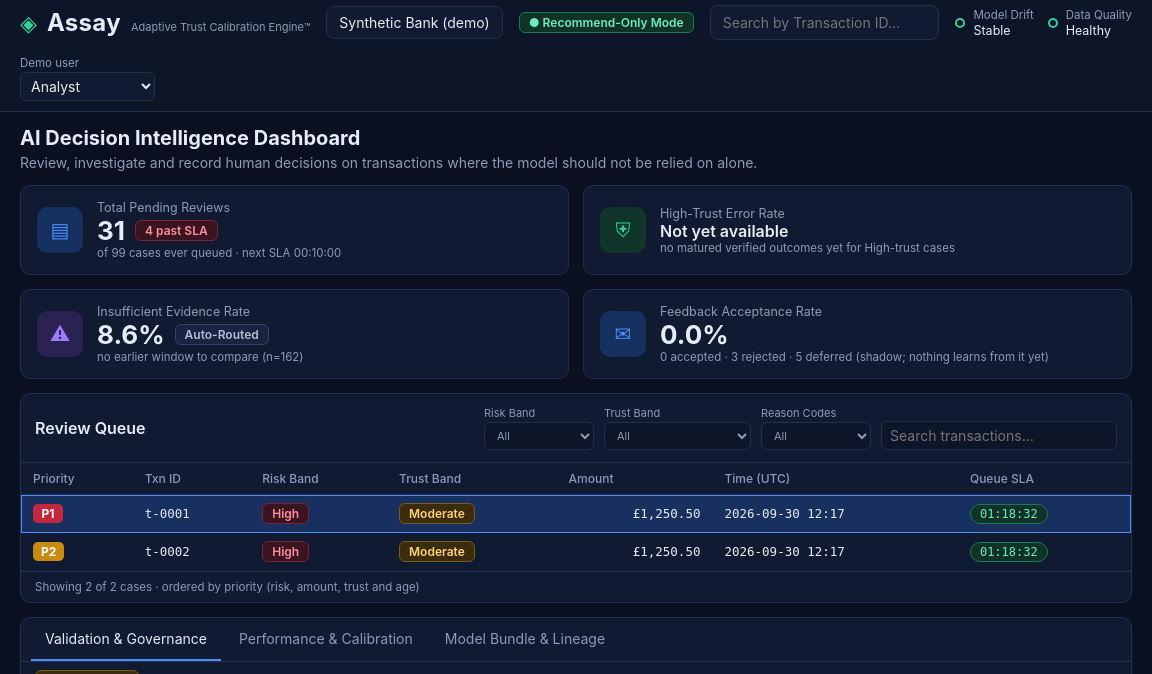
Test: App › reloads as a different demo user and sends that user with every request
Select "Fraud Manager" in the dropdown labelled "Demo user": (88, 86) [20,72,155,101]
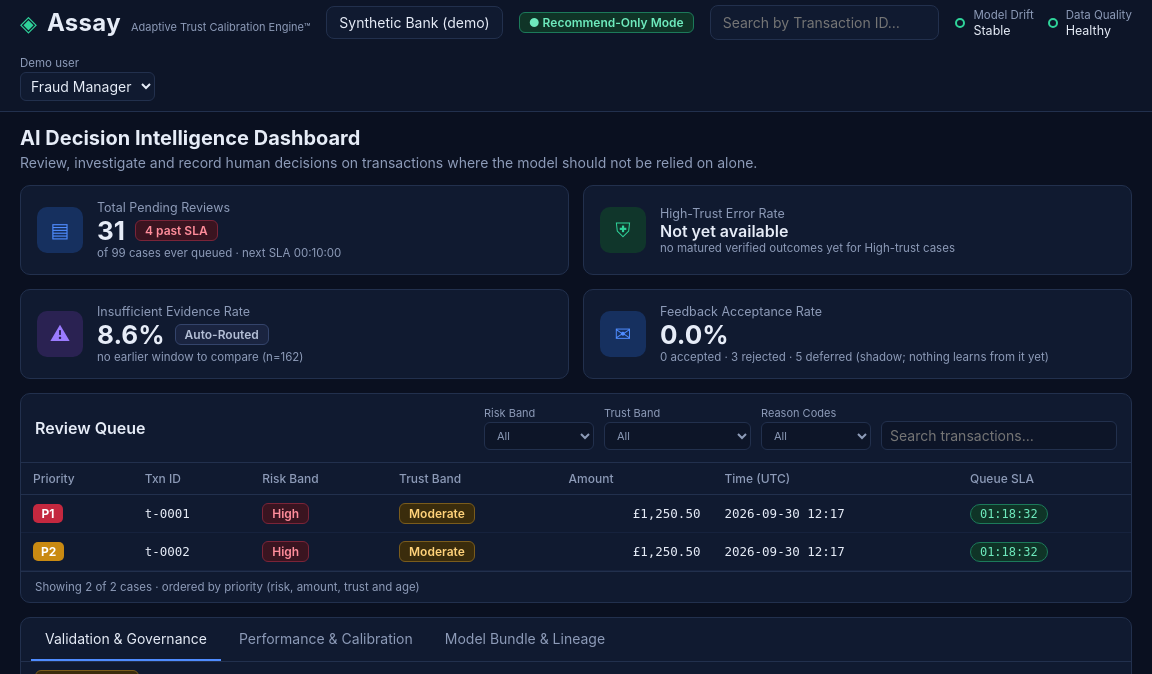
Expected: the element with test id "kpis" shows "Total Pending Reviews", [97,200,230,215]
Click the tab "Model Bundle & Lineage": (525, 640) [431,618,619,661]
(page scrolled)
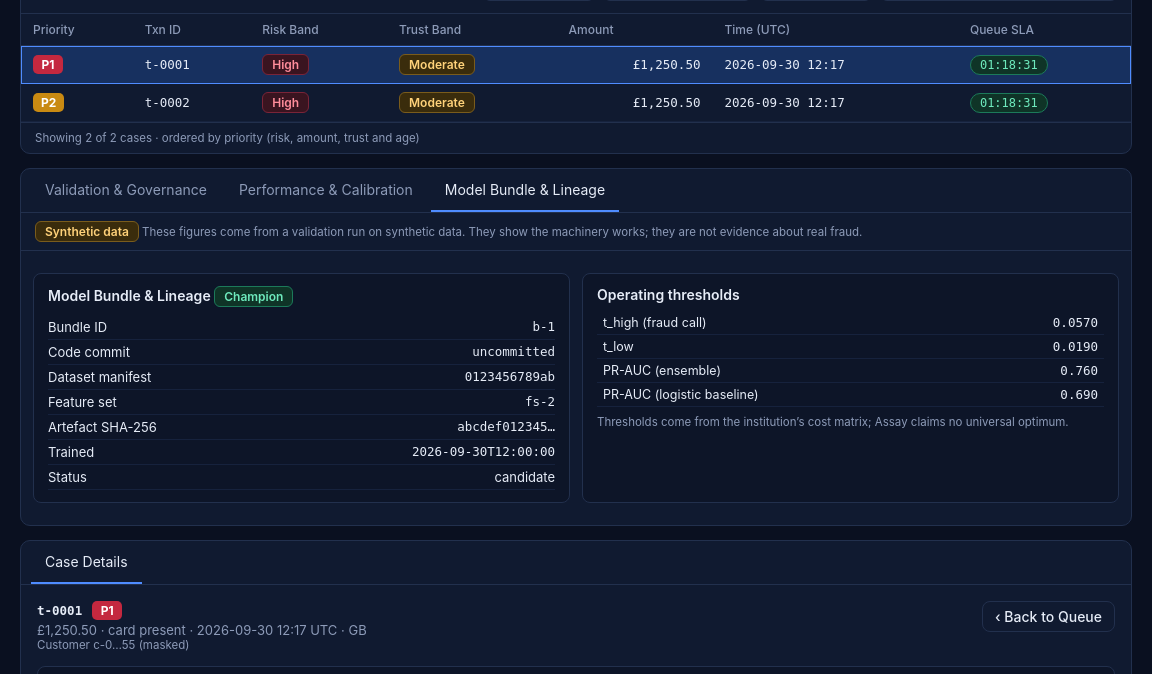
Expected: the element with test id "bundle-card" shows "b-1", [532,319,555,334]
